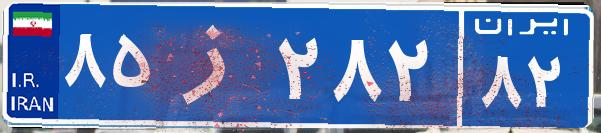2: (385, 28, 445, 110), (273, 28, 330, 110), (525, 38, 570, 115)
5: (110, 28, 158, 105)
8: (330, 28, 385, 110), (57, 26, 110, 107), (475, 38, 525, 113)
ز: (158, 15, 273, 115)
